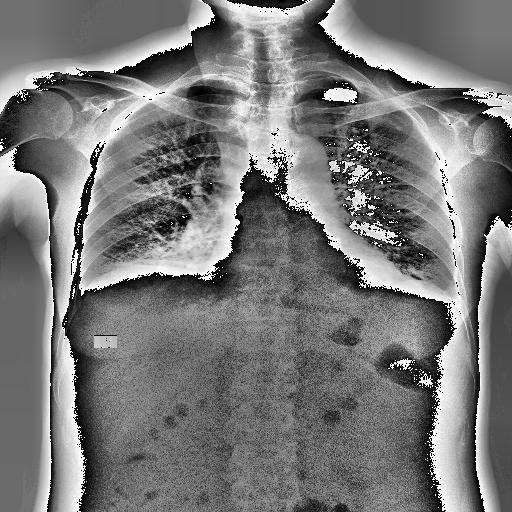0- Aortic enlargement: (270, 130, 338, 198), (278, 134, 330, 182)
10- Pleural effusion: (436, 282, 462, 312), (418, 294, 466, 310)
11- Pleural thickening: (436, 282, 462, 312), (418, 294, 466, 310)
3- Cardiomegaly: (199, 257, 404, 298), (200, 256, 407, 292)
